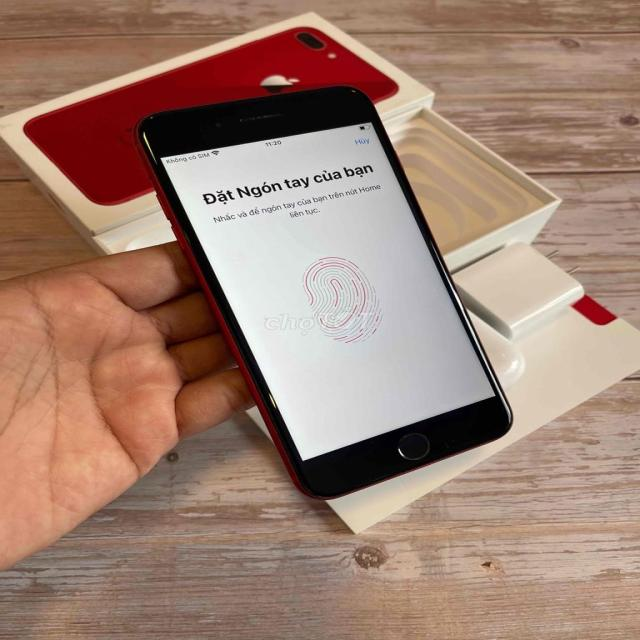gen_7_8: (136, 87, 525, 490)
